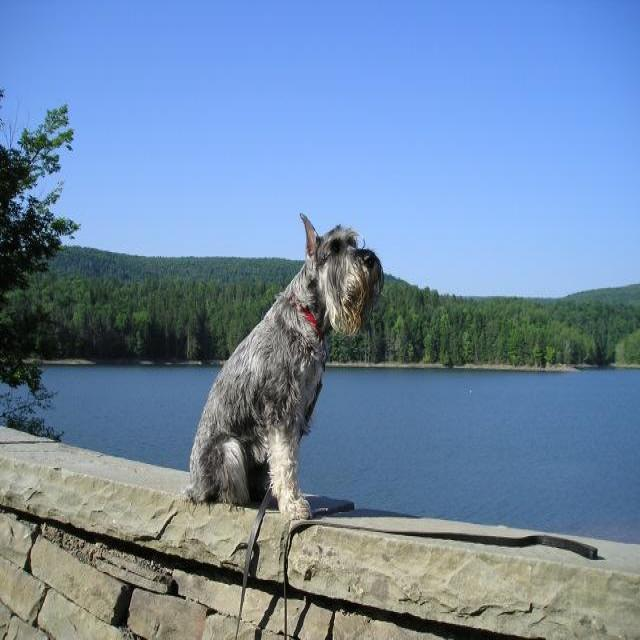standard_schnauzer: (182, 211, 380, 520)
